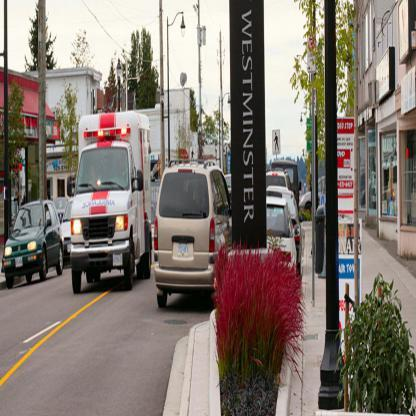Ambulance - v1 Ambulance last generate: (70, 108, 153, 290)
